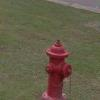Hydrant: (36, 35, 87, 100)
